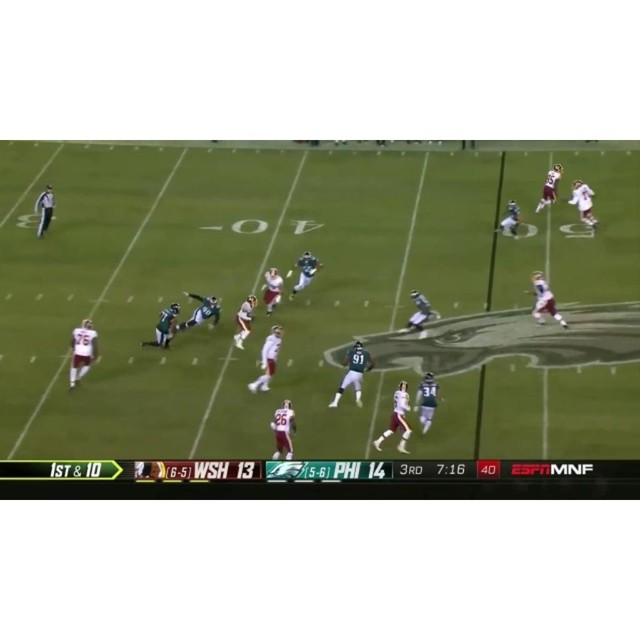american-football-player: (328, 341, 374, 409), (372, 381, 413, 454), (248, 324, 284, 396), (527, 270, 569, 331), (68, 318, 100, 391), (399, 289, 441, 339), (141, 303, 181, 351), (288, 250, 323, 301), (414, 372, 442, 435), (182, 293, 223, 334), (269, 400, 297, 460), (535, 163, 564, 214), (570, 180, 598, 228), (233, 294, 257, 349), (261, 267, 284, 316), (494, 199, 522, 239)
referee: (35, 183, 56, 239)
